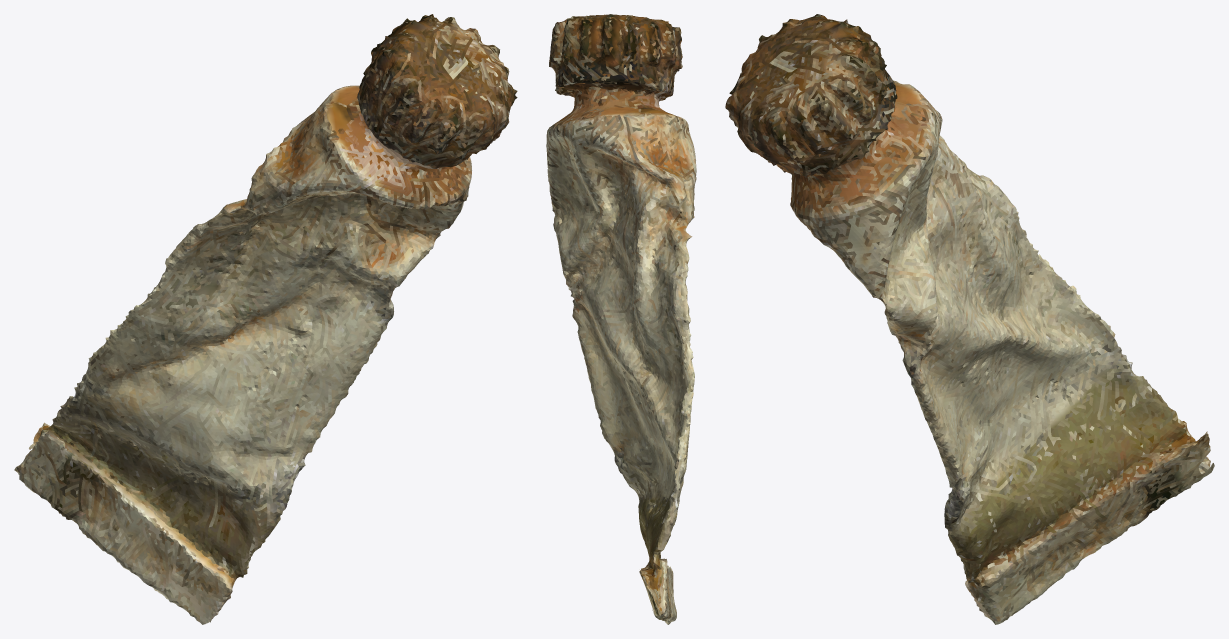
File: 1736_Hydrocortisone_Tube.obj
3 renders of one model, left to right at view 1: azimuth 30°, elevation 25°; view 2: azimuth 150°, elevation 25°; view 3: azimuth 270°, elevation 25°, orthographic. The views are drawn at different scales.
Parts seen in each view (by area): view 1: Fused_Mesh; view 2: Fused_Mesh; view 3: Fused_Mesh.
Part boxes in pixels (x1,y1,x2,y2): Fused_Mesh: [14, 14, 517, 624]; Fused_Mesh: [546, 14, 696, 624]; Fused_Mesh: [725, 14, 1214, 624].
Size of the model in its own units: 27.2 by 52.23 by 34.43.
Materials: 1 (1 with a texture image).
